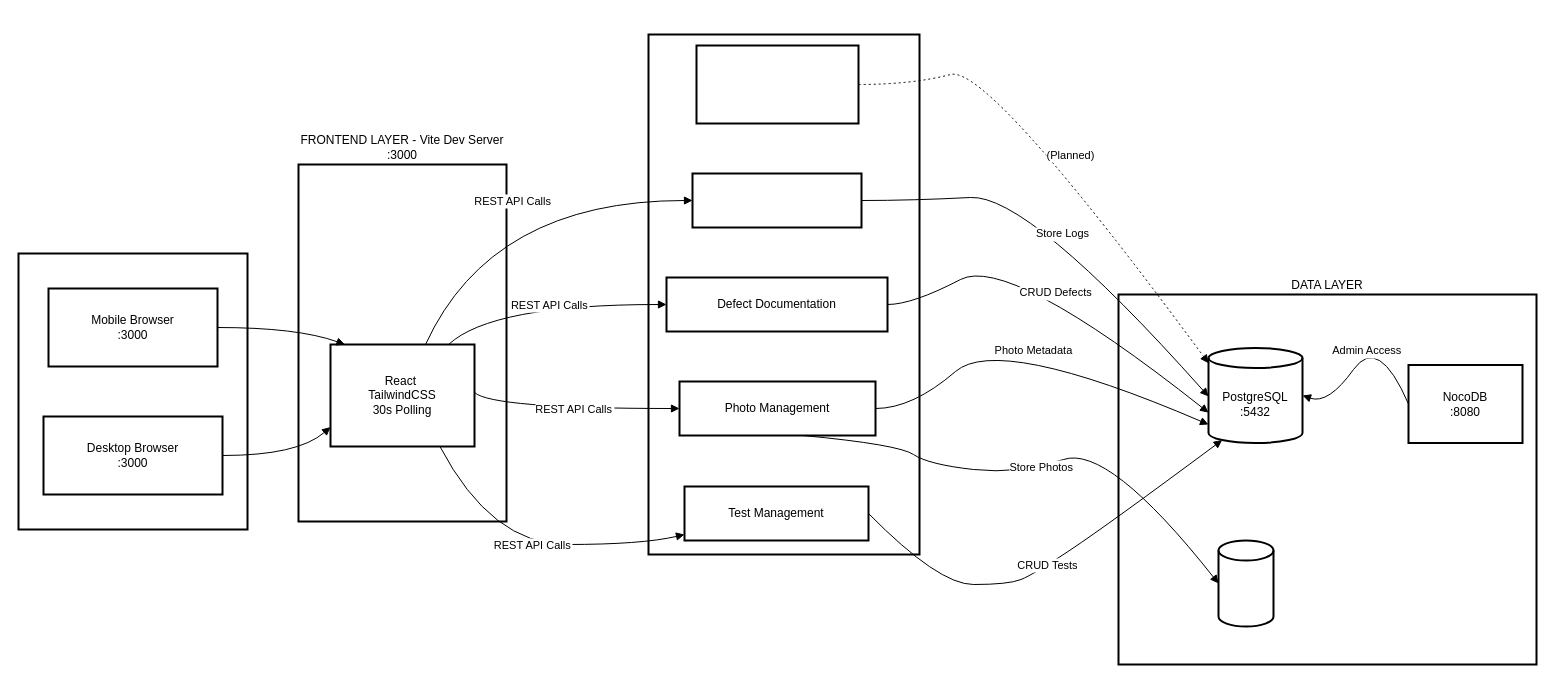
This 1554x682 diagram has some shape labels left out. Here are the shapes that lost their labels. From the top down, the box of each, then its label:
(695, 44, 859, 124): AI Recognition (Planned)
(691, 172, 862, 228): Audit & Review
(647, 33, 920, 555): APPLICATION LAYER - Python + FastAPI :8000
(17, 252, 248, 530): CLIENT/PRESENTATION LAYER
(1217, 539, 1274, 627): MinIO :9000
